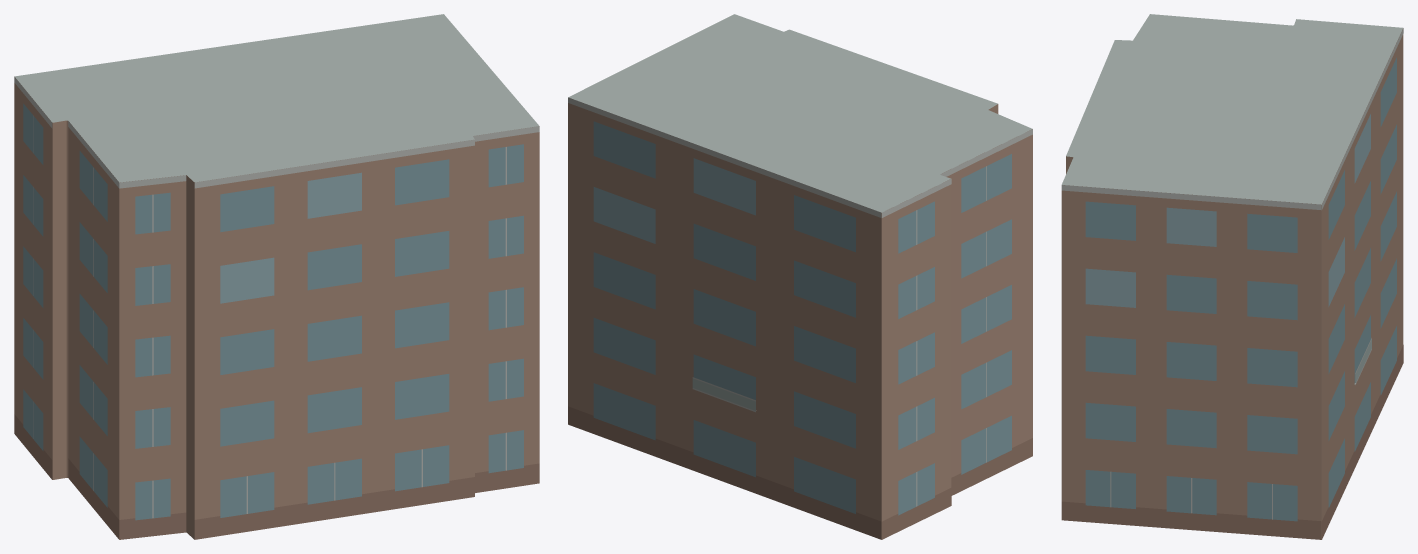
Rendered from survey-upis-32994060.glb.
The picture shows the model from 3 angles, left to right: view 1: azimuth 30°, elevation 25°; view 2: azimuth 150°, elevation 25°; view 3: azimuth 270°, elevation 25°; orthographic projection. The views are drawn at different scales.
Visible parts, largest first — view 1: survey-upis-32994060.tmp; view 2: survey-upis-32994060.tmp; view 3: survey-upis-32994060.tmp.
Part boxes in pixels (left/top/right/bottom): survey-upis-32994060.tmp: left=14, top=14, right=539, bottom=539; survey-upis-32994060.tmp: left=568, top=14, right=1032, bottom=539; survey-upis-32994060.tmp: left=1061, top=14, right=1403, bottom=539.
Size of the model in its own units: 17.58 by 14.42 by 13.33.
